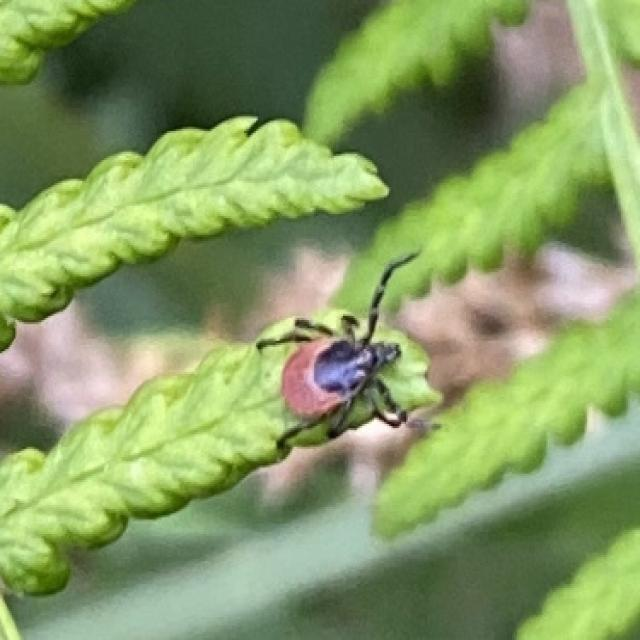Ixodes Ricinus-F: (256, 254, 418, 449)
